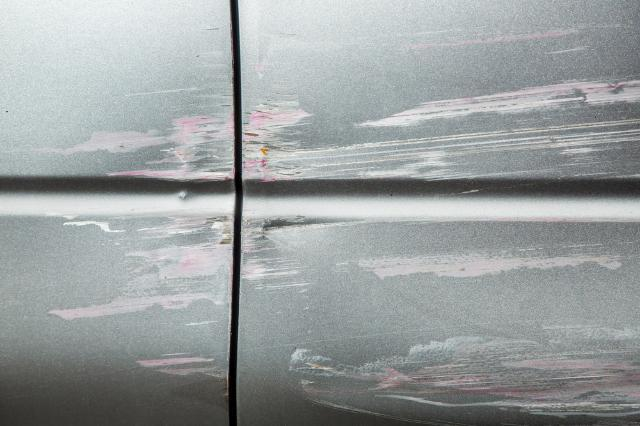scratch: (240, 16, 640, 426), (5, 21, 237, 400)
